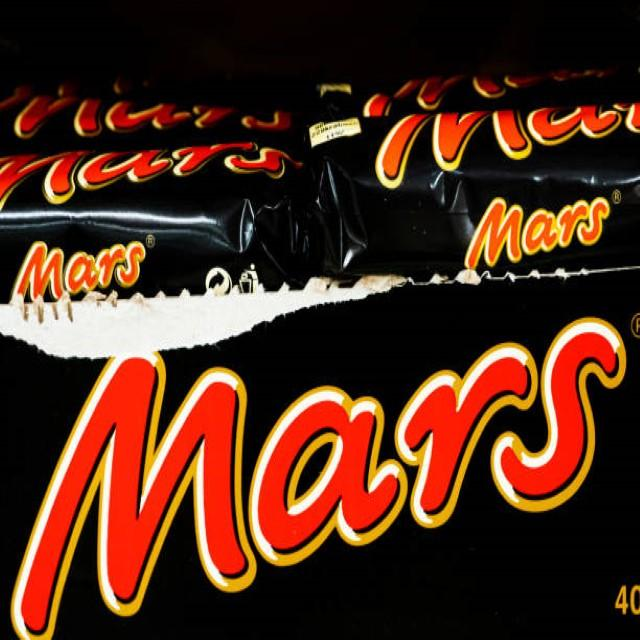mars_chocolate: (20, 282, 627, 640), (10, 127, 340, 303), (321, 105, 640, 266)
